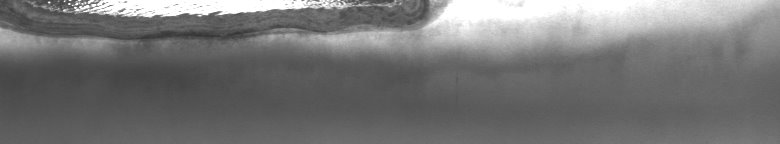ke: (4, 4, 510, 72)
